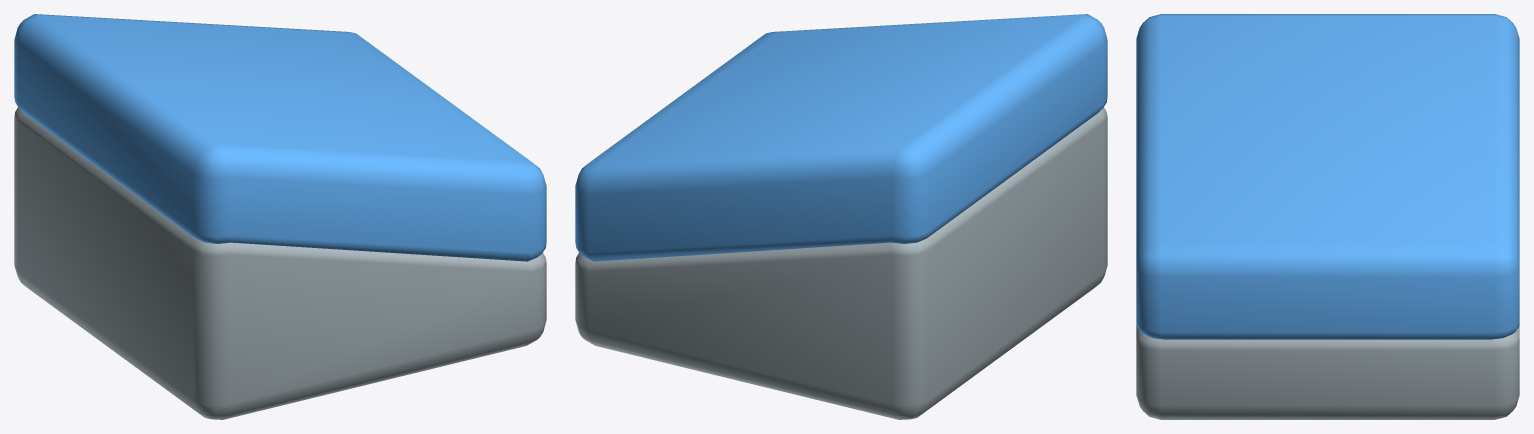
The model's file is tileSlopeLowMedium_teamBlue.glb.
3 renders of one model, left to right at view 1: azimuth 30°, elevation 25°; view 2: azimuth 150°, elevation 25°; view 3: azimuth 270°, elevation 25°, orthographic. The views are drawn at different scales.
Visible parts, largest first — view 1: tileSlopeLowMedium_teamBlue; view 2: tileSlopeLowMedium_teamBlue; view 3: tileSlopeLowMedium_teamBlue.
Part boxes in pixels (left/top/right/bottom): tileSlopeLowMedium_teamBlue: left=14, top=14, right=546, bottom=419; tileSlopeLowMedium_teamBlue: left=575, top=14, right=1107, bottom=419; tileSlopeLowMedium_teamBlue: left=1136, top=14, right=1519, bottom=419.
Size of the model in its own units: 0.6 by 0.45 by 0.6.
